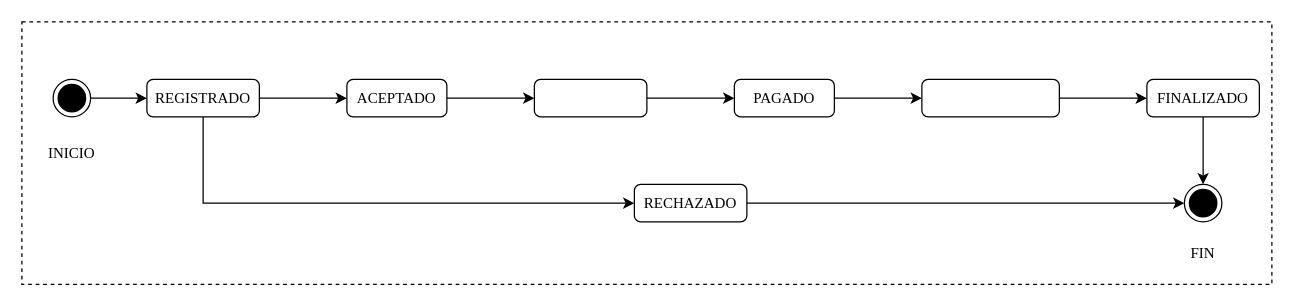
Some shapes in this 1294 by 306 pixel diagram are drawn without their labels. Here are the shapes that lost their labels. From the top down, the centre of each, then its label:
[590,97]: POR PAGAR
[990,97]: EN EJECUCIÓN
